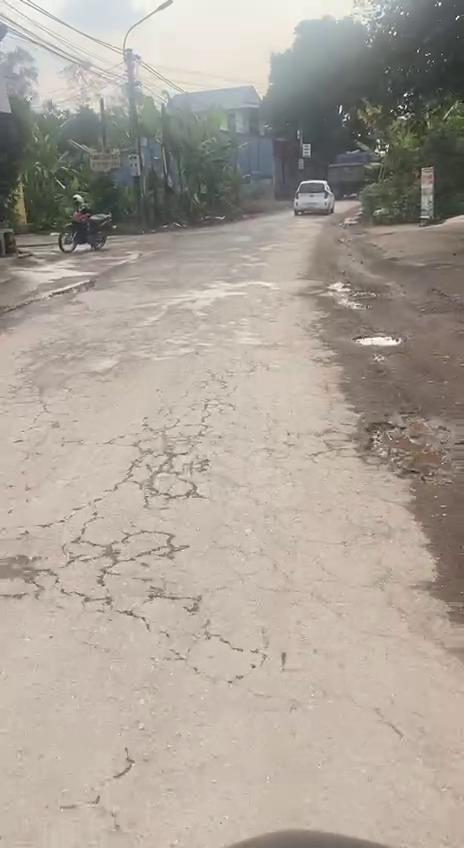pothole: (358, 418, 462, 488), (0, 552, 59, 598), (328, 280, 380, 310), (350, 329, 406, 348)
